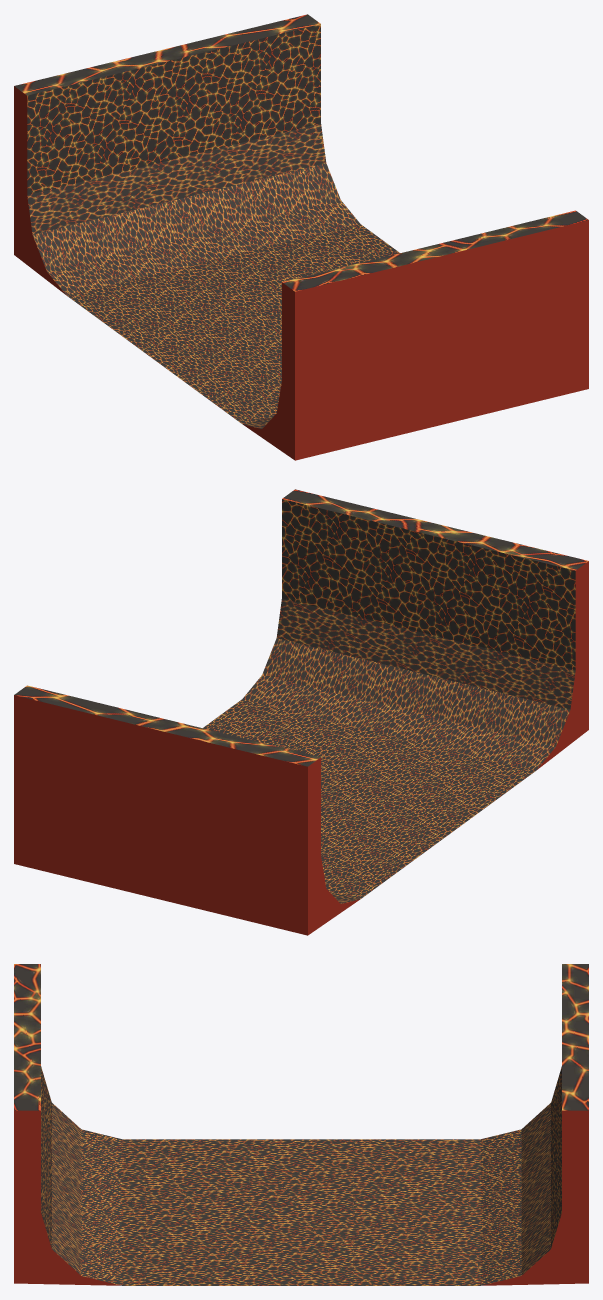
Rendered from HellLava.fbx.
3 views of the same model, one above another, from view 1: azimuth 30°, elevation 25°; view 2: azimuth 150°, elevation 25°; view 3: azimuth 270°, elevation 25° (orthographic). The views are drawn at different scales.
Parts seen in each view (by area): view 1: Plane.003; view 2: Plane.003; view 3: Plane.003.
Part boxes in pixels (x1,y1,x2,y2): Plane.003: [14, 14, 588, 460]; Plane.003: [14, 489, 588, 935]; Plane.003: [14, 964, 588, 1285].
Bounding box in the file's own units: 1611 × 896 × 2669.
